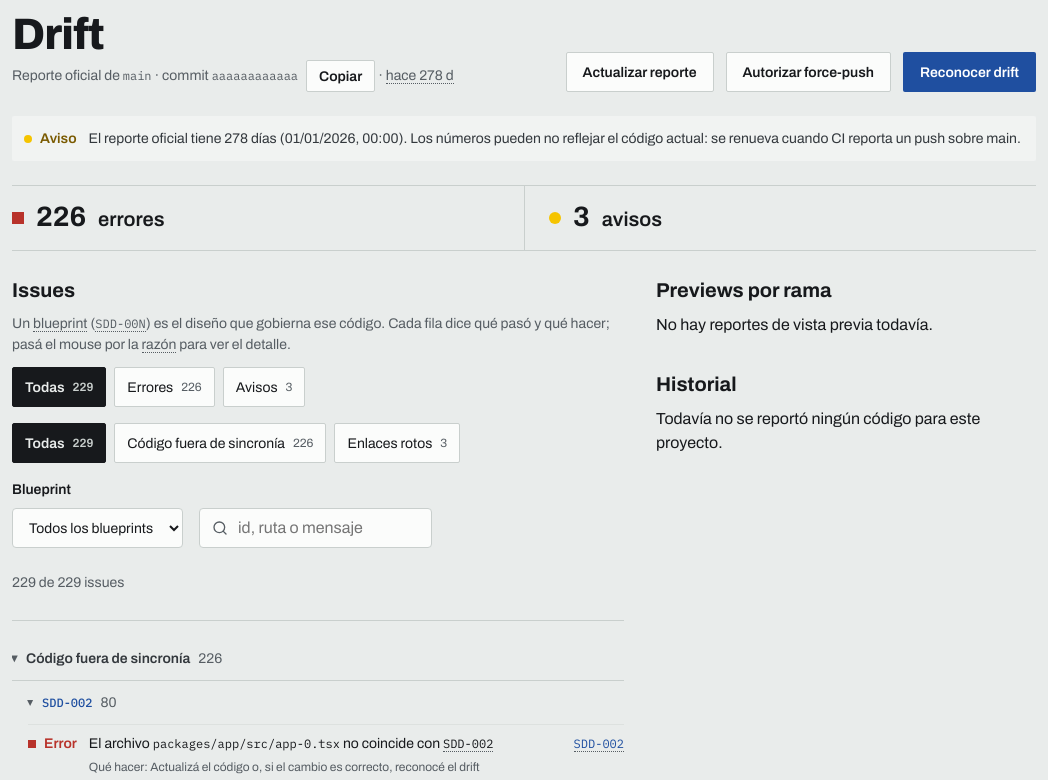
Test: DriftDashboard · triage (SDD-061) › narrows the list by blueprint from the select
The image size is (1048, 780).
Select "SDD-010" in the dropdown labelled "Blueprint" at (98, 528), box 12,508 -> 183,548
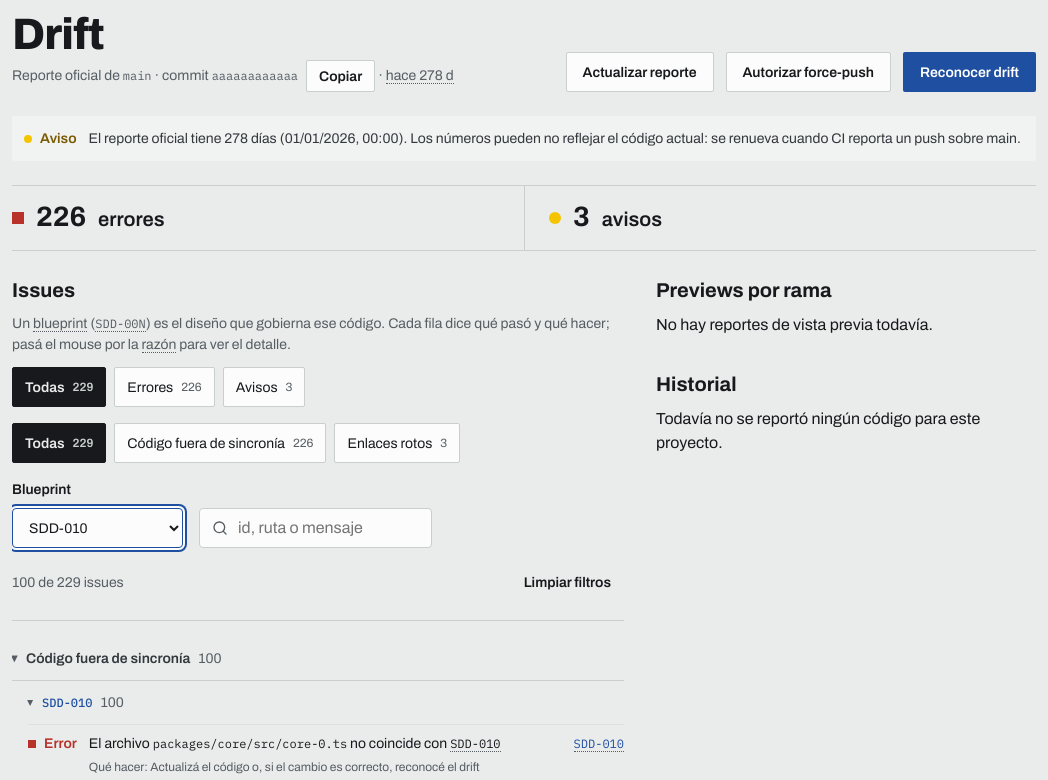
Expected: the number of list items is 50
